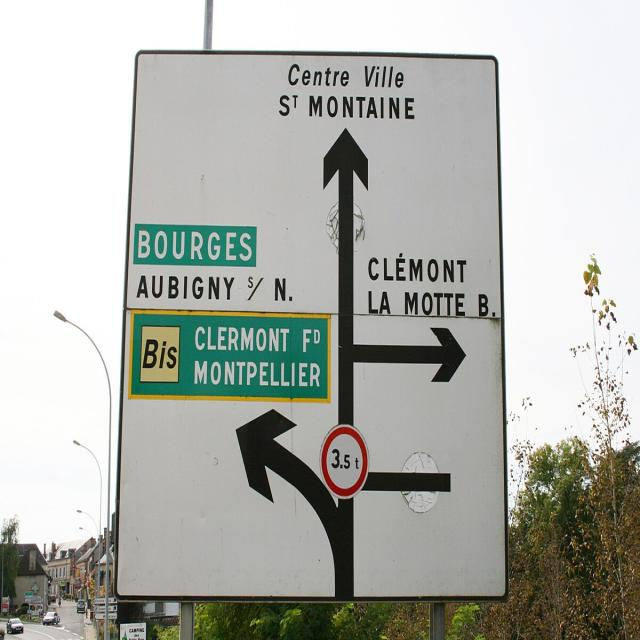direction: (272, 56, 424, 130), (188, 318, 324, 396), (364, 248, 496, 322), (136, 260, 301, 310), (137, 217, 259, 267)
forbidden: (318, 421, 372, 499)
